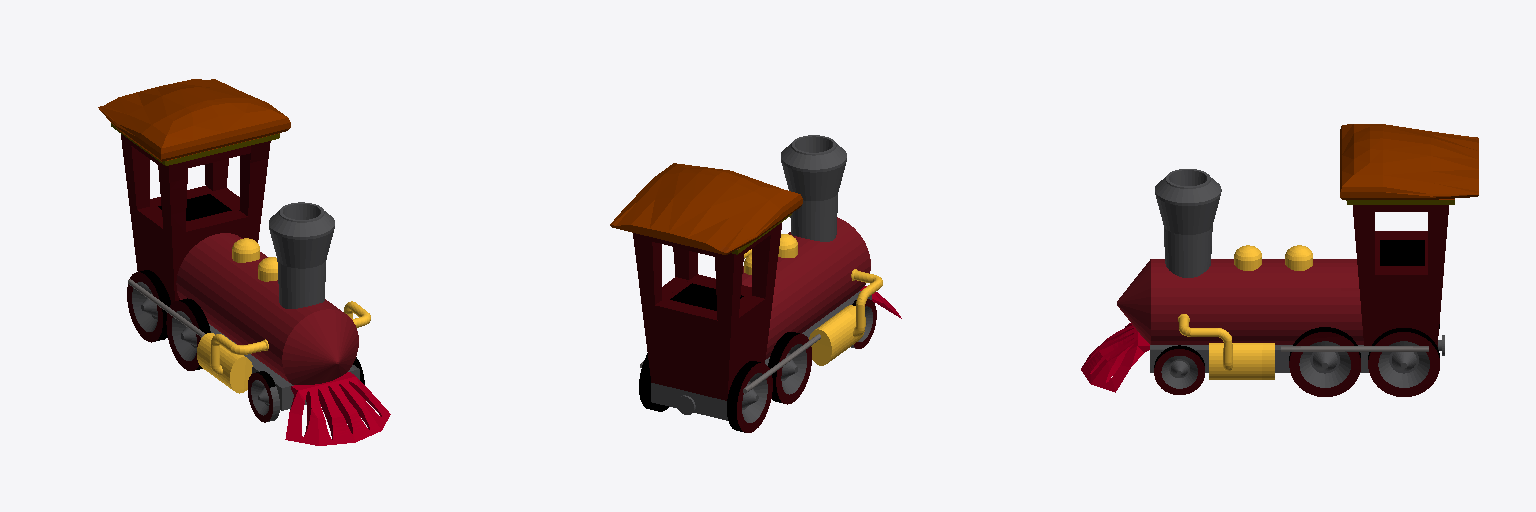
3 views of the same model, side by side, from view 1: azimuth 30°, elevation 25°; view 2: azimuth 150°, elevation 25°; view 3: azimuth 270°, elevation 25° (orthographic).
Parts seen in each view (by area): view 1: wheels_mid_Cylinder.005; view 2: wheels_mid_Cylinder.005; view 3: wheels_mid_Cylinder.005.
Part boxes in pixels (left/top/right/bottom): wheels_mid_Cylinder.005: left=98, top=79, right=390, bottom=445; wheels_mid_Cylinder.005: left=610, top=135, right=901, bottom=432; wheels_mid_Cylinder.005: left=1081, top=124, right=1478, bottom=396.
Size of the model in its own units: 1.81 by 2.86 by 4.41.
1 materials, 1 textured.